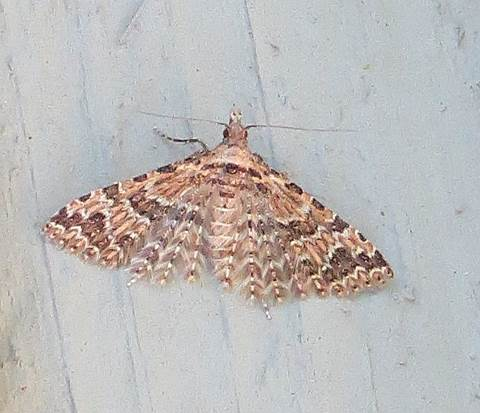Alucitidae: (41, 101, 392, 315)
moth: (39, 99, 390, 313)
